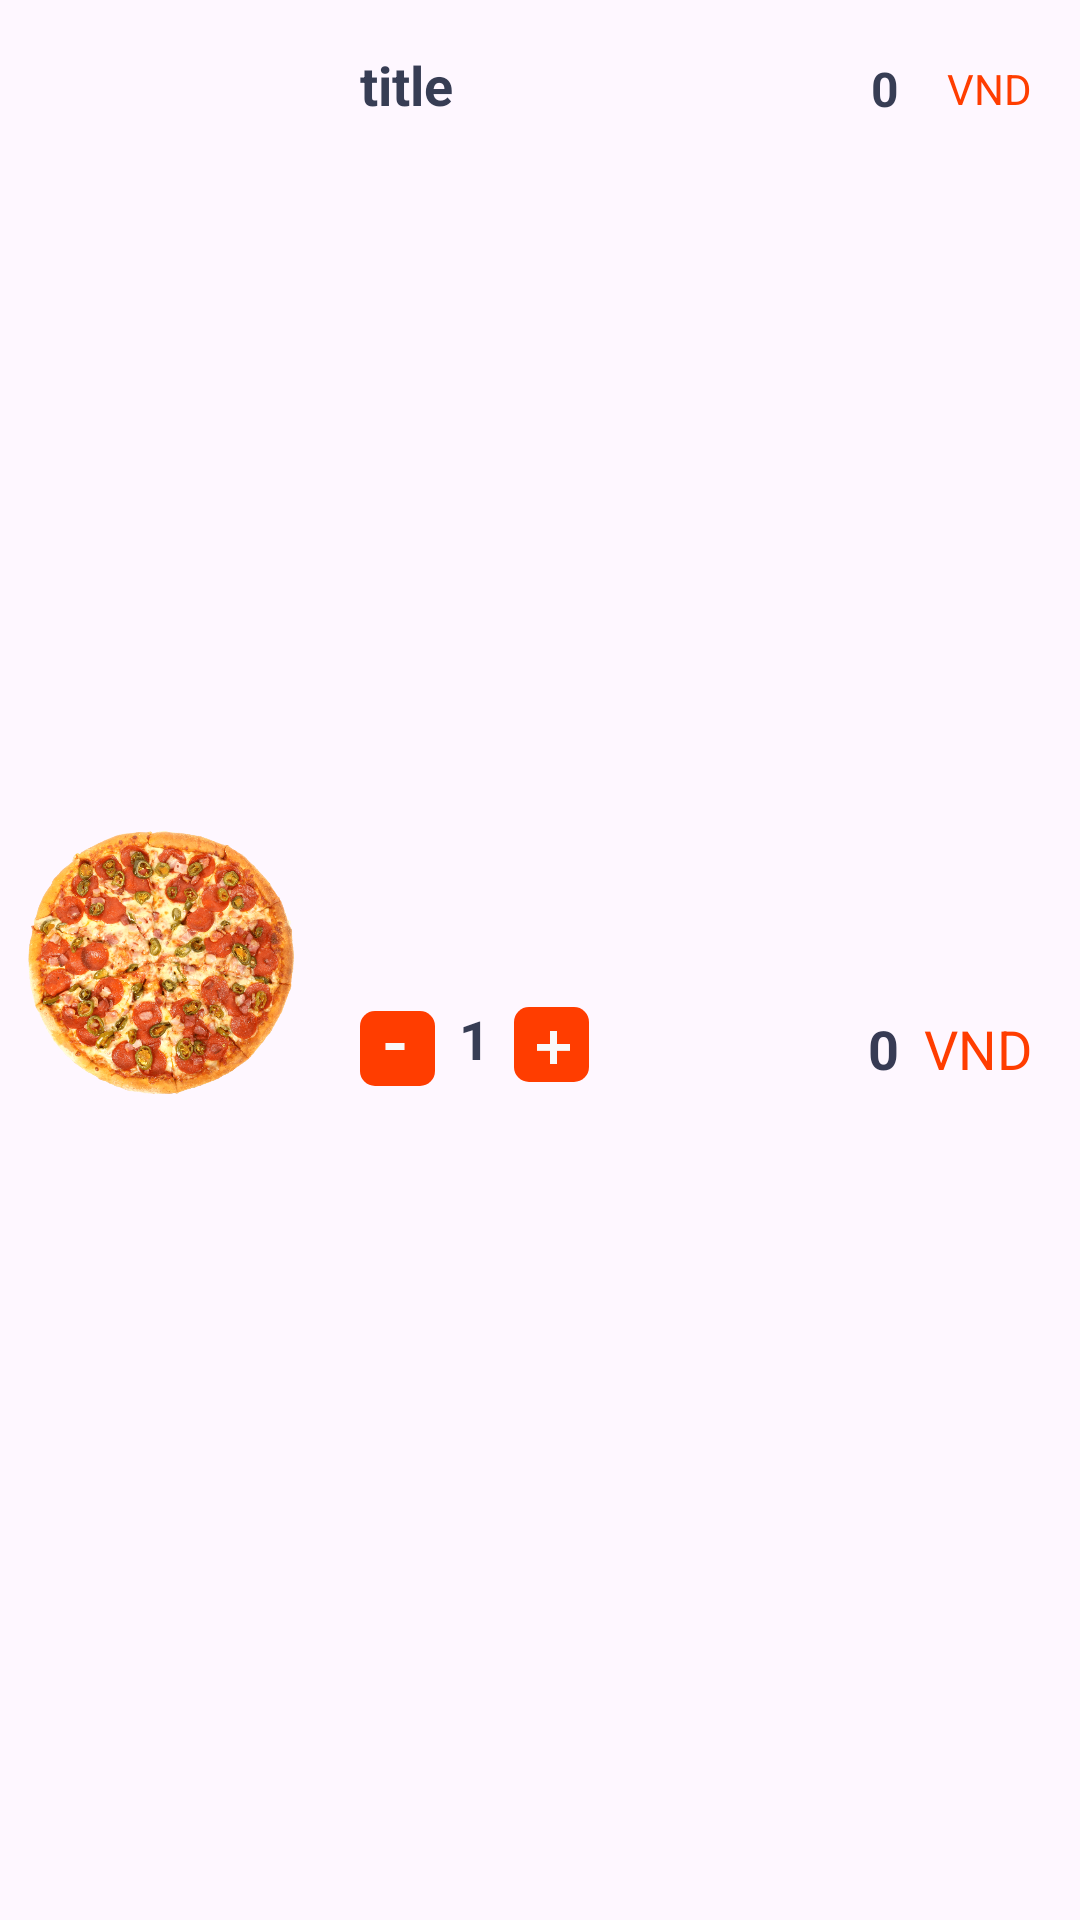

Named icons in this screenshot (1080px×1920px) and their centers, [x,y]:
minus: [397,1048]
pizza: [161,962]
plus: [551,1044]
